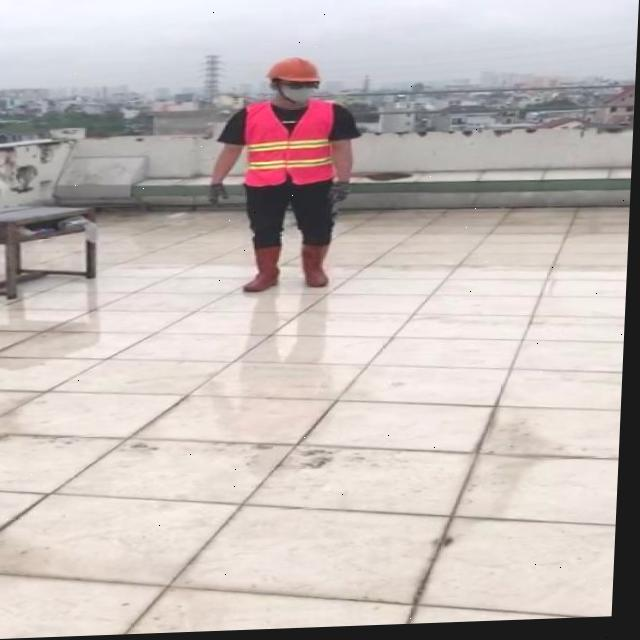Gloves: (332, 182, 353, 205), (210, 184, 231, 206)
Helmet: (267, 58, 323, 87)
Safety-Boot: (246, 246, 285, 294), (303, 244, 334, 289)
Safety-Vest: (243, 100, 340, 189)
